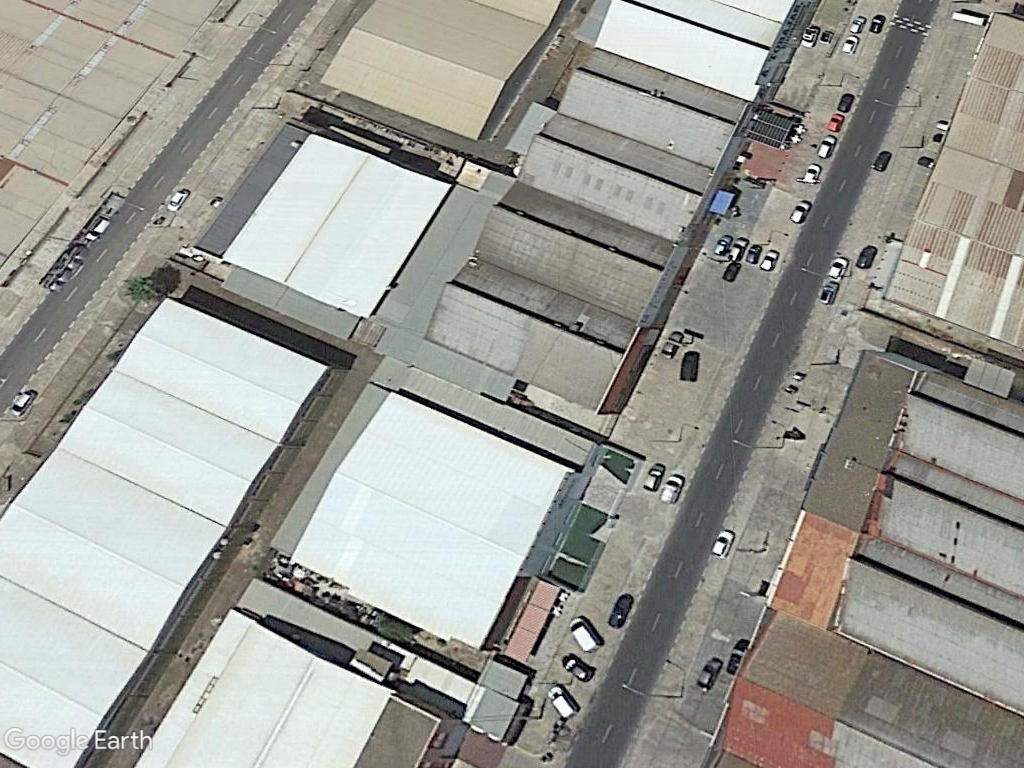car: (709, 525, 734, 564), (787, 194, 812, 230), (812, 133, 838, 164)
truck: (559, 613, 605, 656), (542, 681, 582, 724)
